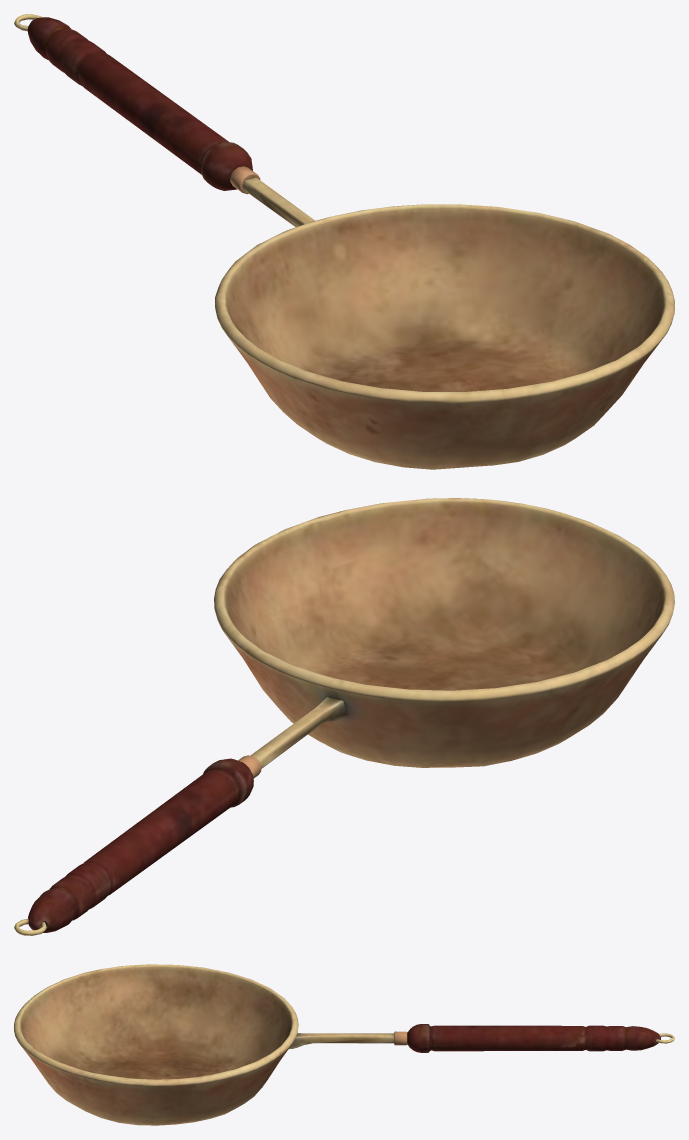
File: brass_pan_01.glb
The picture shows the model from 3 angles, top to bottom: view 1: azimuth 30°, elevation 25°; view 2: azimuth 150°, elevation 25°; view 3: azimuth 270°, elevation 25°; orthographic projection. The views are drawn at different scales.
Parts seen in each view (by area): view 1: brass_pan_01; view 2: brass_pan_01; view 3: brass_pan_01.
Part boxes in pixels (x1=…): brass_pan_01: x1=14, y1=14, x2=674, y2=469; brass_pan_01: x1=14, y1=498, x2=674, y2=935; brass_pan_01: x1=14, y1=964, x2=674, y2=1125.
Bounding box in the file's own units: 0.1913 × 0.0525 × 0.4497.
Materials: 1 (1 with a texture image).
